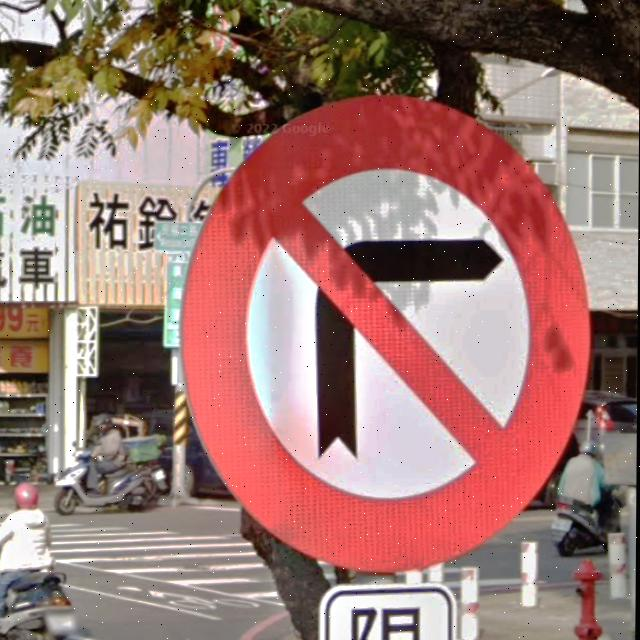noturnright: (178, 96, 593, 574)
